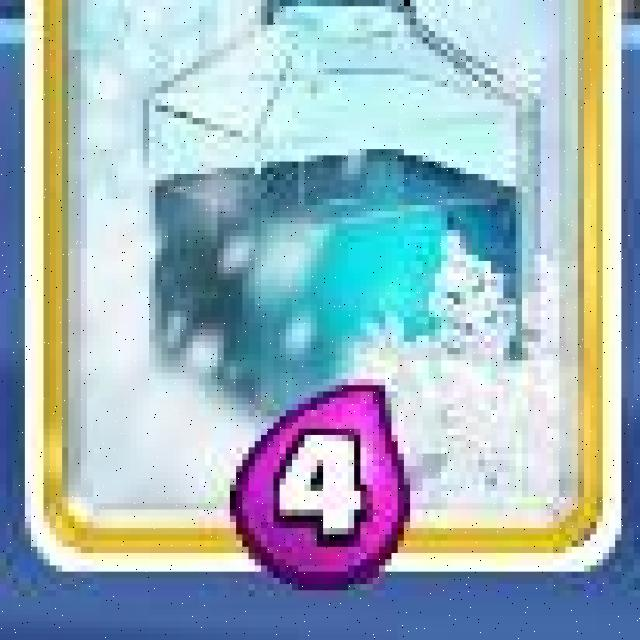Freeze: (27, 0, 620, 574)
